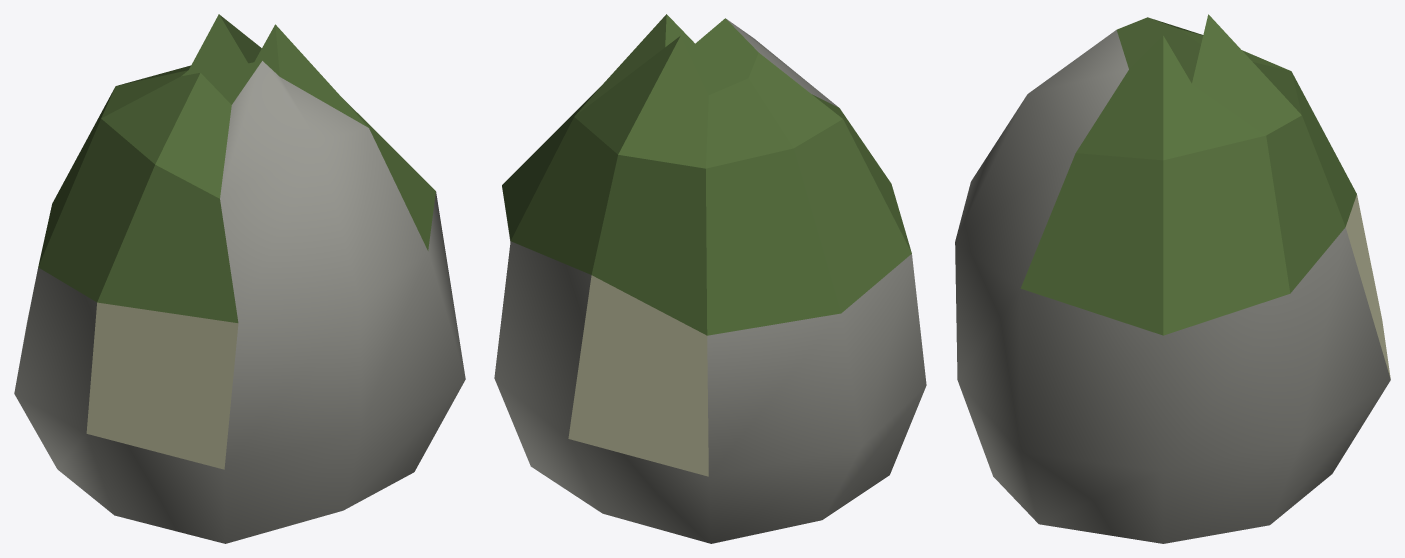
File: boulder-tall.glb
3 views of the same model, side by side, from view 1: azimuth 30°, elevation 25°; view 2: azimuth 150°, elevation 25°; view 3: azimuth 270°, elevation 25° (orthographic). The views are drawn at different scales.
Visible parts, largest first — view 1: prop_boulder-tall_LOD0; view 2: prop_boulder-tall_LOD0; view 3: prop_boulder-tall_LOD0.
Part boxes in pixels (left/top/right/bottom): prop_boulder-tall_LOD0: left=14, top=14, right=465, bottom=543; prop_boulder-tall_LOD0: left=494, top=14, right=926, bottom=543; prop_boulder-tall_LOD0: left=955, top=14, right=1390, bottom=543.
Size of the model in its own units: 1.77 by 1.87 by 1.64.
